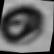correct: (0, 0, 52, 52)
